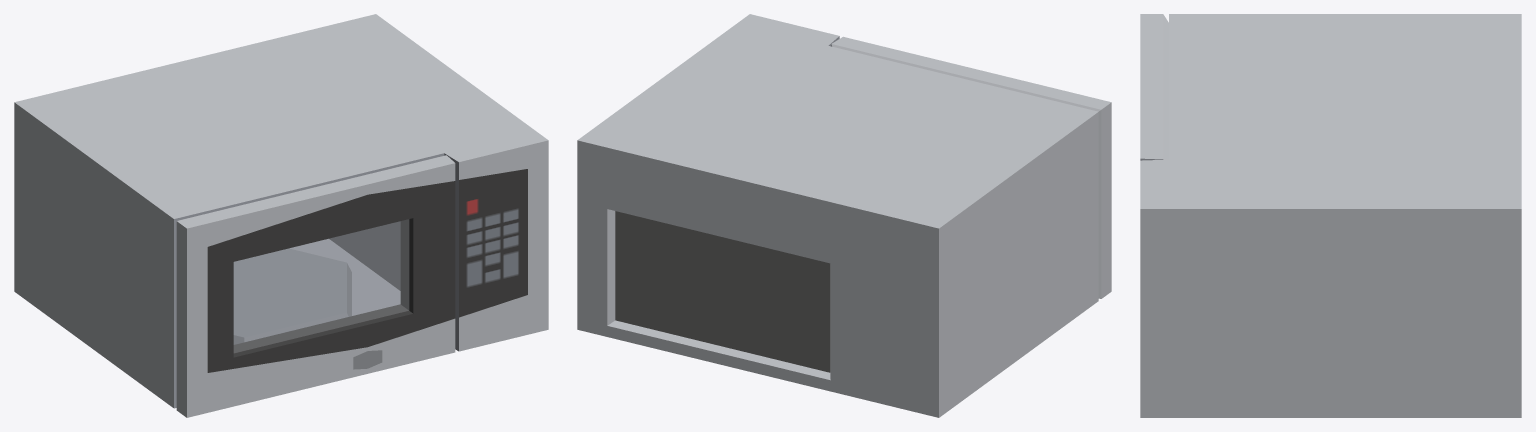
Rendered from SM_Prop_Microwave_01.fbx.
3 renders of one model, left to right at view 1: azimuth 30°, elevation 25°; view 2: azimuth 150°, elevation 25°; view 3: azimuth 270°, elevation 25°, orthographic. The views are drawn at different scales.
Parts seen in each view (by area): view 1: SM_Prop_Microwave_01, SM_Prop_Microwave_Door_01; view 2: SM_Prop_Microwave_01, SM_Prop_Microwave_Door_01; view 3: SM_Prop_Microwave_01, SM_Prop_Microwave_Door_01.
Part boxes in pixels (left/top/right/bottom): SM_Prop_Microwave_01: left=14, top=14, right=548, bottom=408; SM_Prop_Microwave_Door_01: left=176, top=155, right=455, bottom=417; SM_Prop_Microwave_01: left=577, top=14, right=1098, bottom=417; SM_Prop_Microwave_Door_01: left=831, top=36, right=1111, bottom=298; SM_Prop_Microwave_01: left=1140, top=14, right=1521, bottom=417; SM_Prop_Microwave_Door_01: left=1140, top=14, right=1168, bottom=160.
Bounding box in the file's own units: 56.99 × 28.51 × 47.1.
